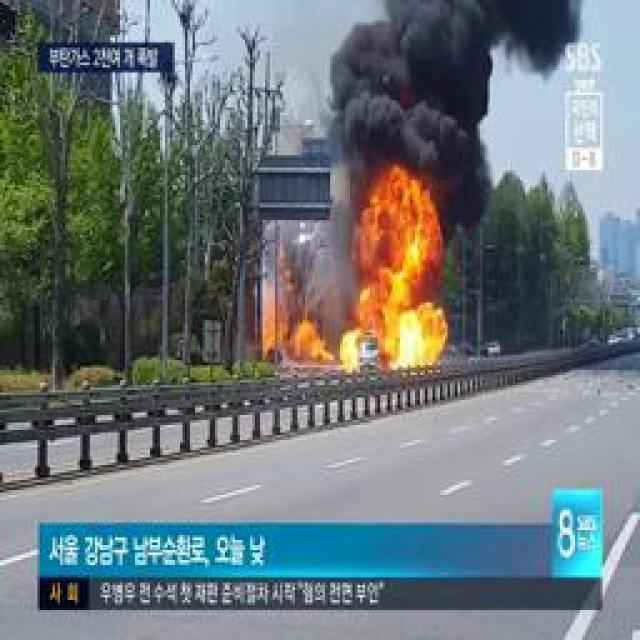Fire: (361, 179, 447, 367), (296, 323, 327, 365), (341, 339, 359, 371)
